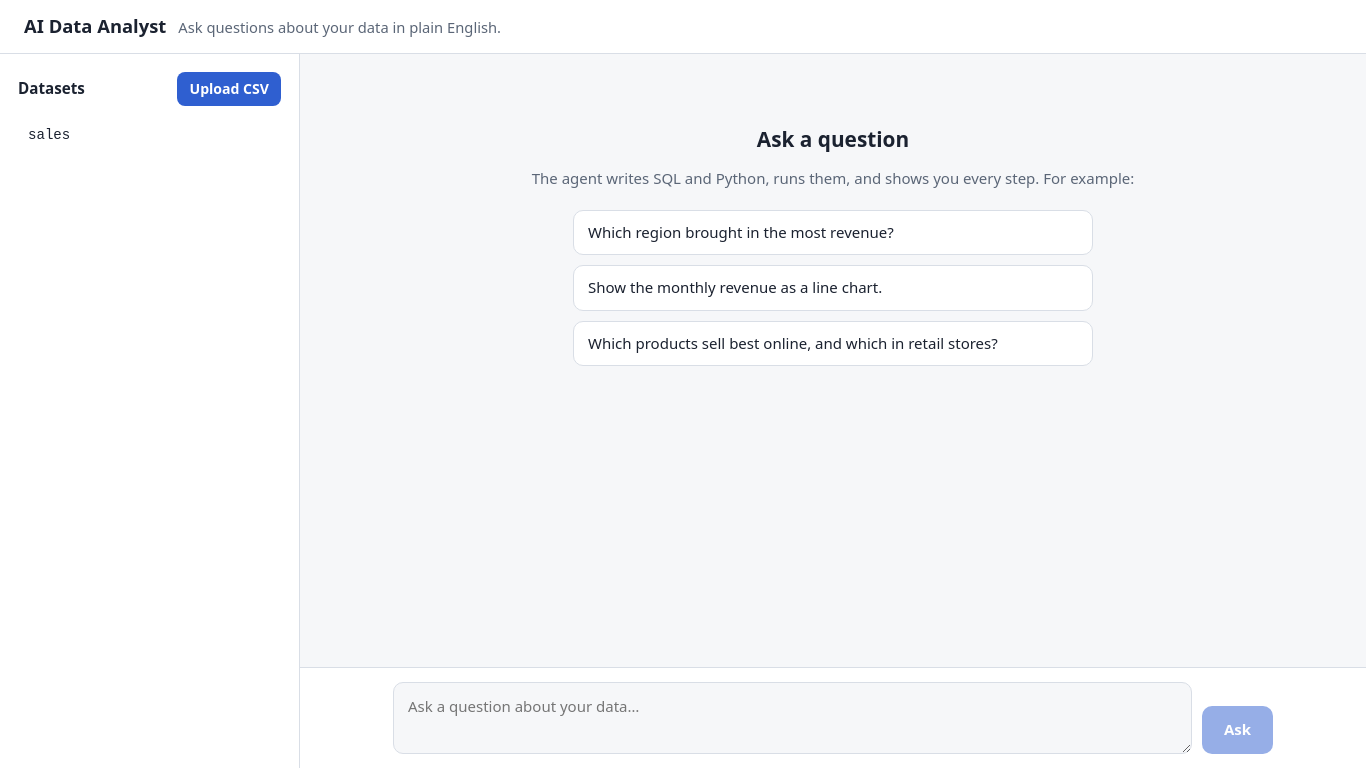
Test: AnalystApp › shows an error when the answer stops before the end
This screenshot has width=1366, height=768.
Expected: the button "sales" is shown, [18, 118, 281, 153]
Type "Who sold most?" into the text box named "Your question" at (792, 718), box [393, 682, 1192, 754]
Then press Enter
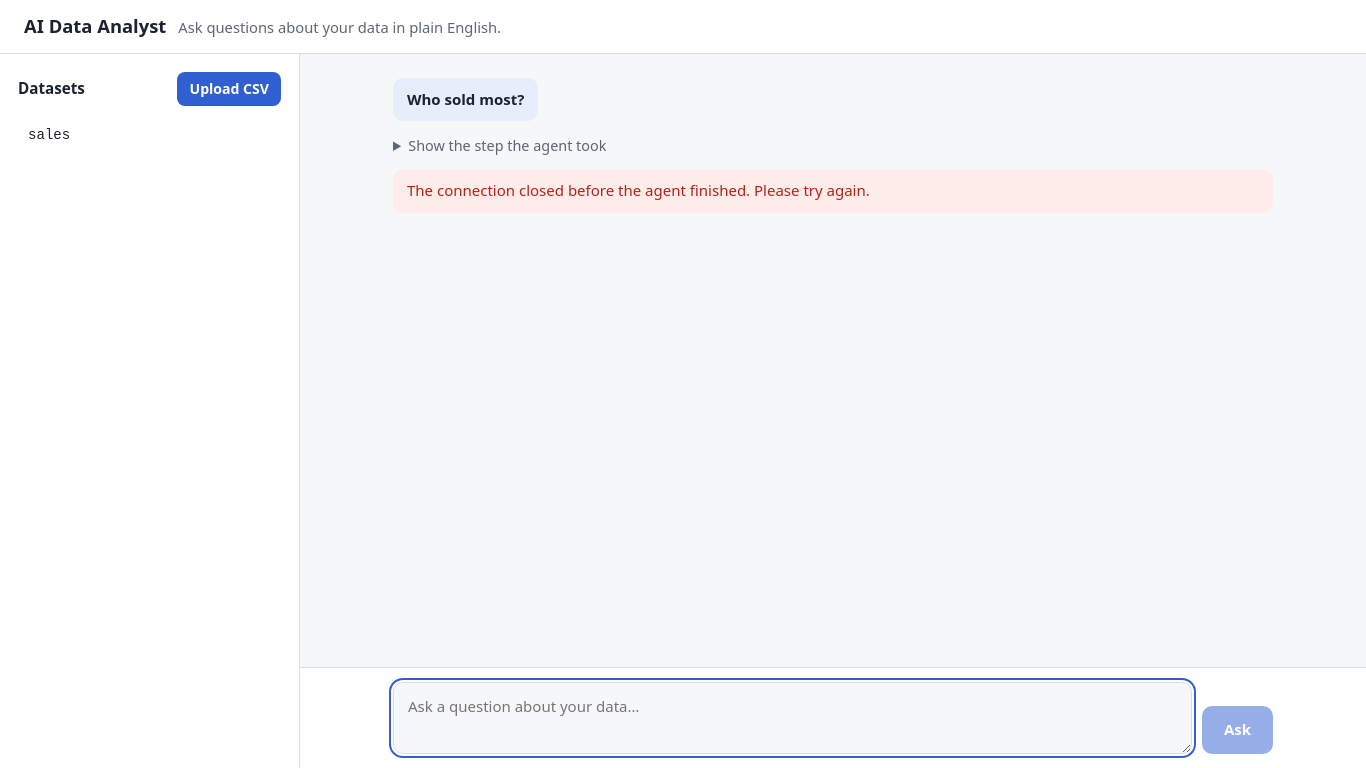
Expected: the text "connection closed before the agent finished" is shown, [407, 180, 870, 200]
